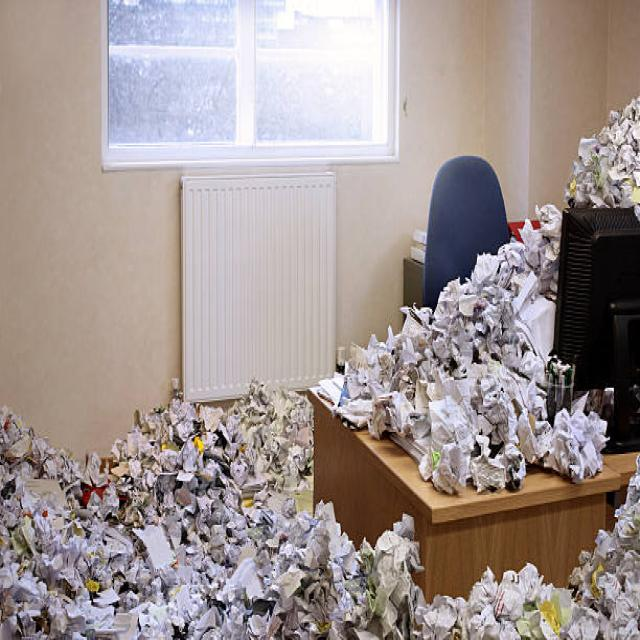paper: (1, 296, 287, 640), (336, 249, 550, 489), (451, 514, 593, 640), (2, 410, 193, 484)
